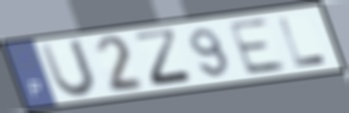2: (93, 34, 148, 96)
9: (187, 25, 232, 79)
E: (225, 16, 290, 78)
L: (276, 16, 331, 69)
U: (37, 37, 100, 100)
Z: (131, 27, 199, 89)
